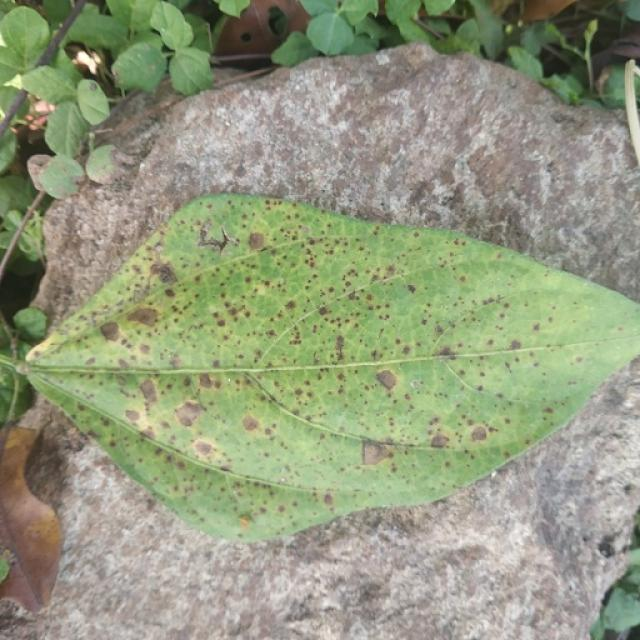Anthracnose: (196, 221, 237, 255), (370, 362, 401, 394), (174, 400, 204, 427), (125, 305, 160, 328), (360, 441, 392, 466), (210, 307, 240, 332), (153, 262, 177, 285), (139, 378, 158, 404), (99, 320, 121, 342), (193, 440, 215, 457), (247, 232, 265, 250), (479, 295, 506, 307), (241, 415, 260, 432), (470, 425, 489, 441), (430, 434, 449, 449), (198, 373, 215, 389), (168, 352, 184, 369), (124, 409, 142, 424), (437, 346, 457, 359), (335, 335, 345, 360), (140, 425, 155, 440), (238, 512, 254, 526), (139, 342, 152, 354), (323, 492, 334, 506), (318, 305, 330, 316), (510, 339, 522, 350), (164, 288, 176, 299), (284, 300, 296, 310), (385, 265, 396, 275), (407, 284, 417, 294), (532, 322, 541, 331), (402, 346, 411, 355), (216, 319, 226, 327), (544, 406, 554, 413)
Blackgram: (31, 194, 639, 540)
